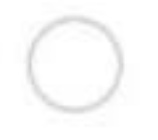CheckBox: (1, 1, 157, 139)
